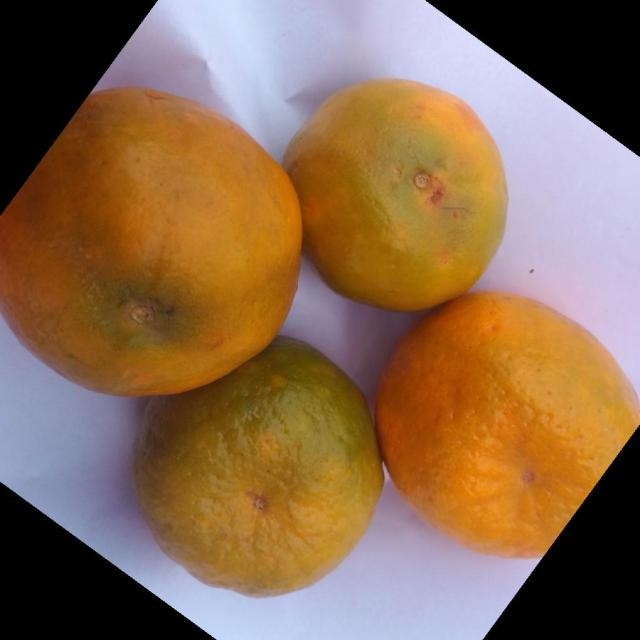agrume: (1, 84, 303, 397), (374, 289, 639, 559), (130, 334, 385, 598), (281, 76, 509, 312)
